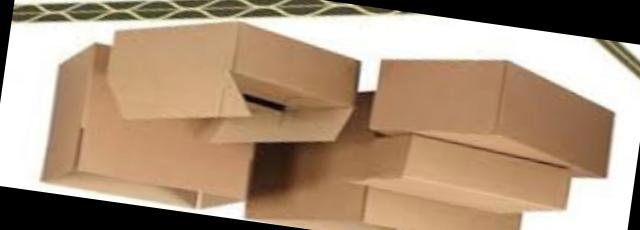cardboard paper: (45, 26, 614, 230), (43, 49, 253, 210), (109, 26, 358, 145), (372, 63, 613, 179)
